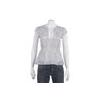camicia: (35, 26, 66, 66)
